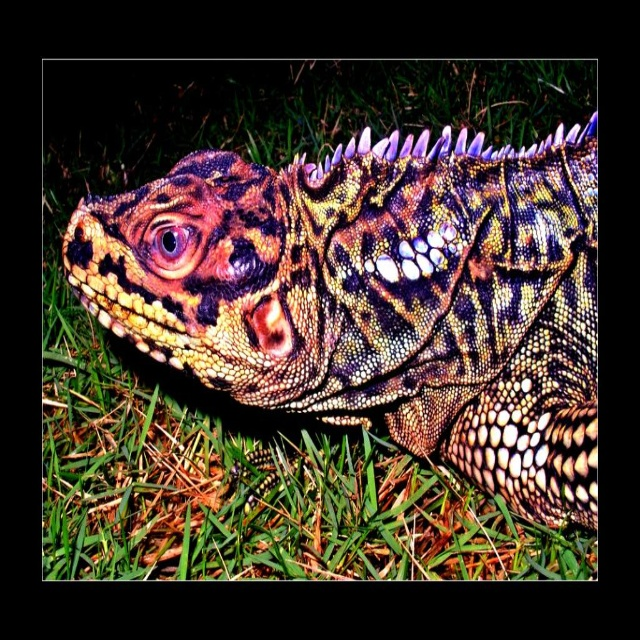Lizard: (97, 68, 638, 521)
